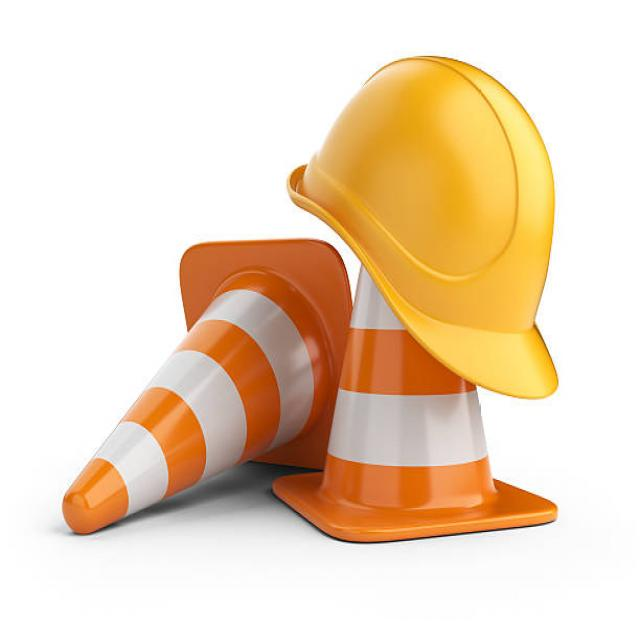Safety-Helmet: (285, 45, 566, 408)
